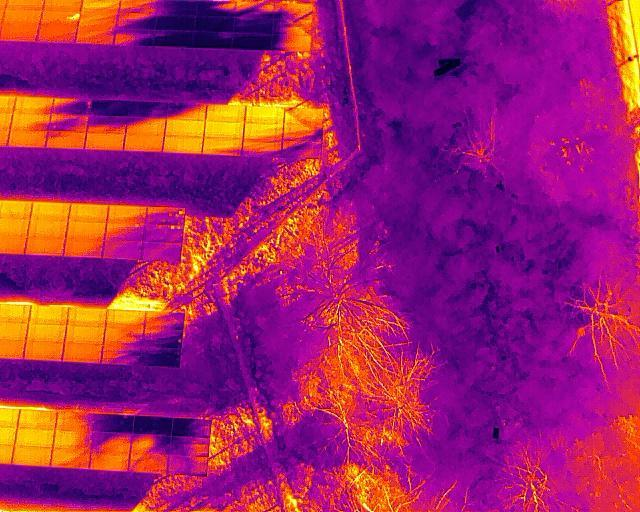Cell: (105, 223, 146, 241)
Cell-Multi: (144, 223, 182, 243), (146, 207, 185, 224)
No-Anomaly: (12, 446, 51, 466), (90, 453, 130, 472), (15, 428, 55, 447), (108, 204, 148, 223), (64, 238, 104, 257), (66, 324, 105, 343), (17, 410, 58, 428), (25, 237, 66, 255), (68, 204, 109, 222), (13, 96, 54, 114), (28, 323, 66, 342), (25, 341, 63, 360), (243, 121, 283, 139), (8, 129, 48, 147), (66, 221, 106, 239), (31, 203, 70, 221), (2, 9, 43, 26), (83, 134, 126, 150), (64, 344, 102, 362), (163, 136, 205, 152), (31, 306, 68, 324), (28, 220, 67, 237), (204, 120, 244, 136), (206, 104, 246, 120), (68, 307, 105, 324), (107, 310, 146, 326), (123, 135, 164, 150), (165, 120, 206, 135), (244, 107, 284, 122), (0, 202, 33, 220), (79, 14, 118, 29), (76, 29, 115, 44), (0, 26, 38, 41), (38, 28, 76, 43), (81, 0, 119, 14)
Shadowing: (90, 431, 131, 453), (170, 435, 209, 457), (139, 347, 179, 368), (131, 434, 170, 455), (51, 448, 91, 468), (131, 416, 173, 435), (92, 414, 133, 433), (143, 328, 184, 347), (102, 343, 139, 364), (146, 312, 186, 331), (168, 456, 206, 476), (142, 242, 180, 262), (85, 116, 127, 134), (125, 116, 167, 134), (130, 455, 169, 474), (154, 30, 195, 48), (173, 418, 211, 437), (104, 240, 142, 259), (242, 139, 282, 157), (202, 137, 244, 154), (57, 411, 94, 430), (105, 325, 142, 344), (282, 140, 323, 157), (233, 32, 273, 49), (49, 113, 89, 130), (126, 101, 168, 117), (55, 430, 92, 448), (114, 29, 153, 46), (283, 123, 322, 140), (233, 16, 274, 32), (10, 115, 51, 131), (45, 131, 86, 147), (167, 104, 208, 120), (194, 32, 232, 49), (52, 97, 91, 113), (273, 19, 311, 35), (90, 100, 128, 116), (155, 0, 195, 15), (196, 15, 233, 31), (231, 2, 273, 16), (284, 108, 323, 123), (154, 15, 195, 29), (273, 4, 312, 18), (273, 35, 312, 49), (117, 15, 155, 29), (118, 0, 156, 14), (196, 2, 232, 15)
Unclassified: (41, 11, 80, 27)
